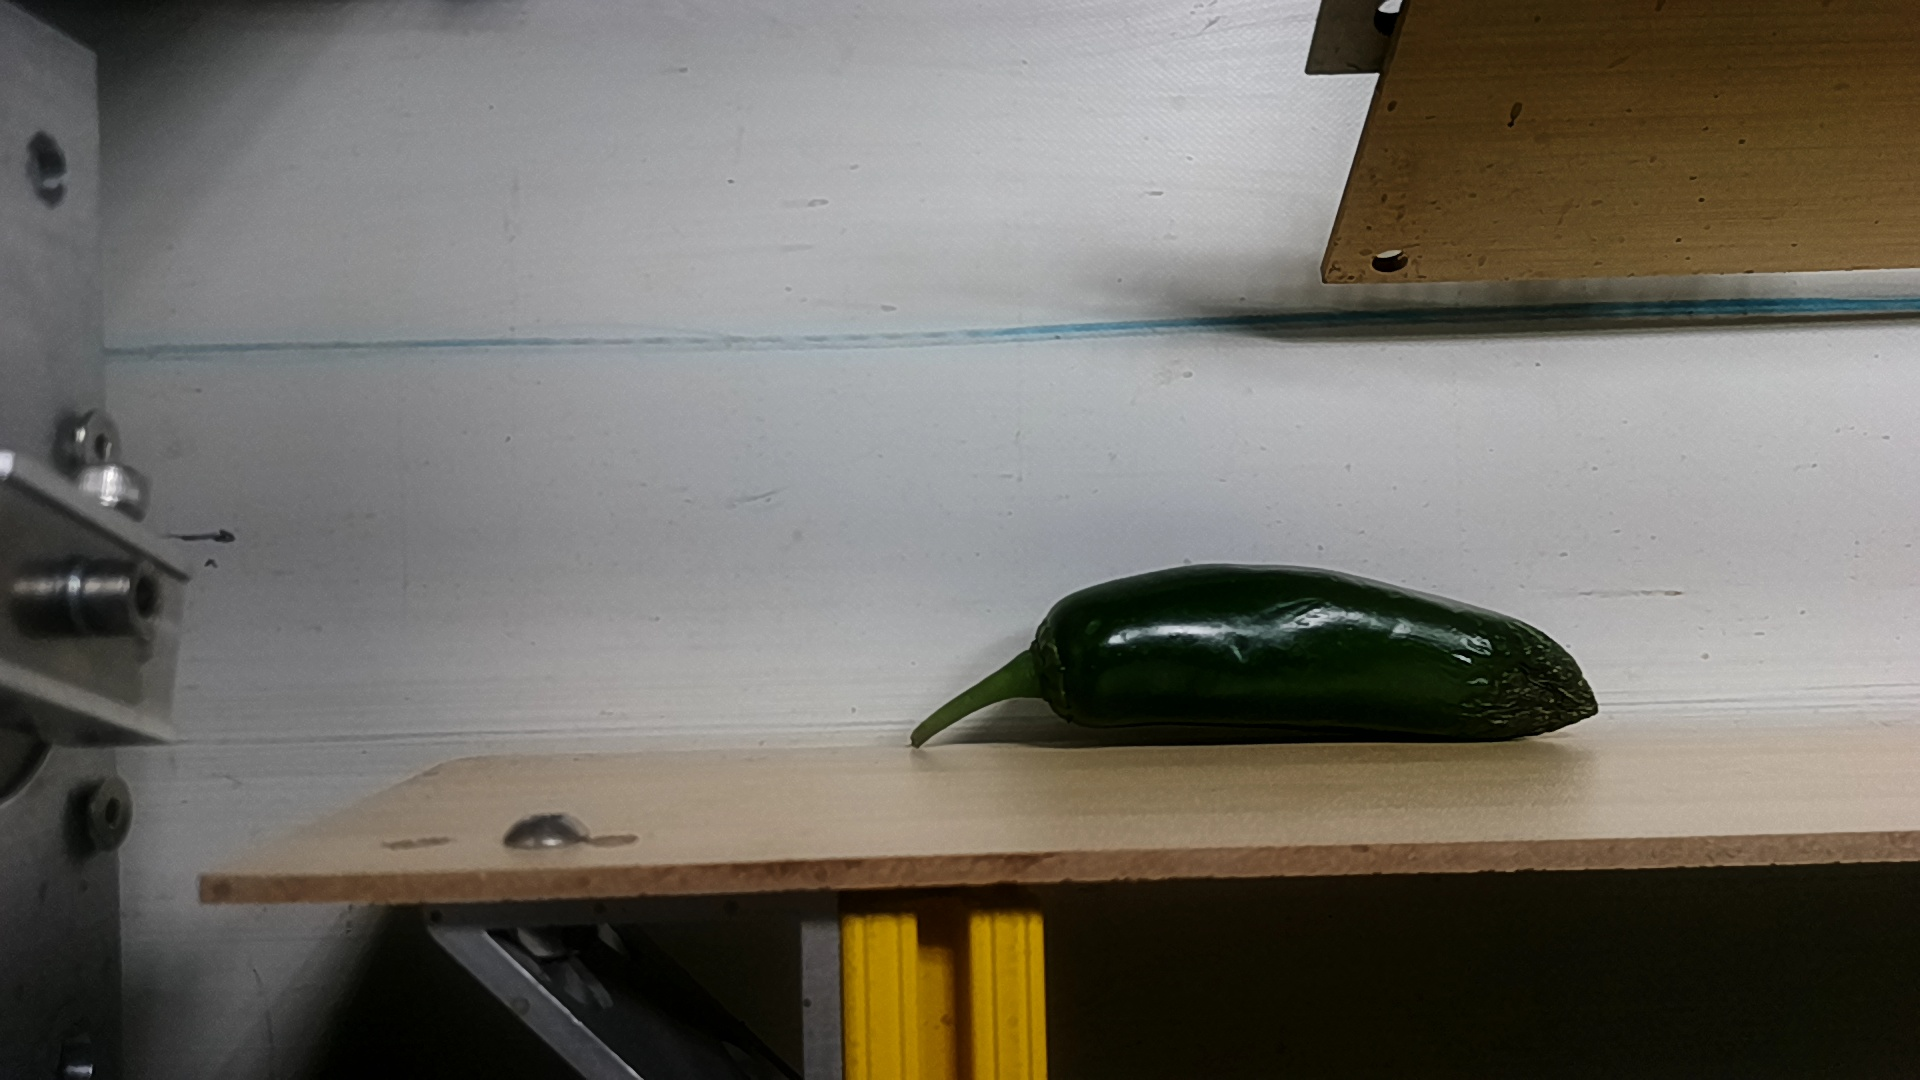Cut Point: (1004, 584, 1116, 731)
